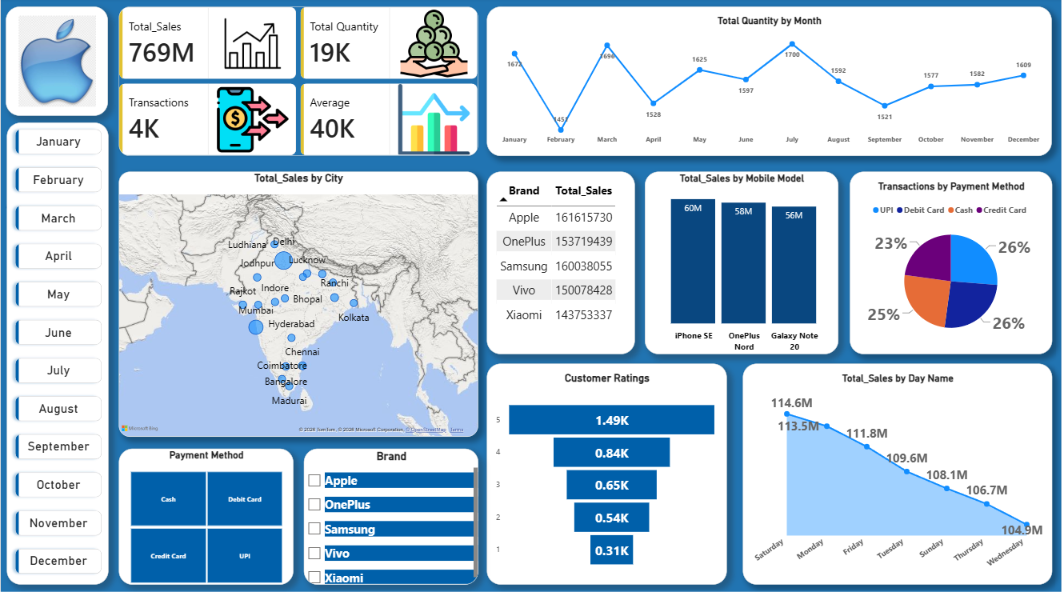

What the dashboard file says about the page in this screenshot:
{"tool":"powerbi","page":{"name":"Page 1","canvas":[1920,1080],"ordinal":0},"visuals":[{"type":"shape","box":[9,16.3,184.6,197.3],"z":0},{"type":"image","box":[9,224.4,161.1,181],"z":1000},{"type":"shape","box":[10,226,184,836],"z":2000},{"type":"advancedSlicerVisual","fields":{"Values":["Sheet1.Date.Variation.Date Hierarchy.Month"]},"box":[14,226,180,836],"z":3000},{"type":"cardVisual","fields":{"Data":["Sales_Data.Total_Sales","Sales_Data.Total Quantity","Sales_Data.Transactions","Sales_Data.Average"]},"box":[214,16,650,270],"z":4000},{"type":"map","fields":{"Category":["Sales_Data.City"],"Size":["Sales_Data.Total_Sales"]},"box":[214,314,650,480],"z":5000},{"type":"lineChart","fields":{"Category":["Sales_Data.Date.Variation.Date Hierarchy.Month","Sales_Data.Date.Variation.Date Hierarchy.Day"],"Y":["Sales_Data.Total Quantity"]},"box":[880,16,1022,270],"z":6000},{"type":"pieChart","fields":{"Category":["Sales_Data.Payment Method"],"Y":["Sales_Data.Transactions"]},"box":[1536,314,366,330],"z":7000},{"type":"clusteredColumnChart","fields":{"Category":["Sales_Data.Mobile Model"],"Y":["Sales_Data.Total_Sales"]},"box":[1166,314,350,330],"z":8000},{"type":"slicer","title":"Payment Method","fields":{"Values":["Sales_Data.Payment Method"]},"box":[214,816,316,246],"z":9000},{"type":"areaChart","fields":{"Category":["Sales_Data.Day Name"],"Y":["Sales_Data.Total_Sales"]},"box":[1342,662,560,400],"z":10000},{"type":"tableEx","fields":{"Values":["Sales_Data.Brand","Sales_Data.Total_Sales"]},"box":[880,314,268,330],"z":11000},{"type":"funnel","title":"Customer Ratings","fields":{"Category":["Sales_Data.Customer Ratings"],"Y":["CountNonNull(Sales_Data.Customer Ratings)"]},"box":[880,662,434,400],"z":12000},{"type":"slicer","title":"Brand","fields":{"Values":["Sales_Data.Brand"]},"box":[548,816,316,246],"z":13000},{"type":"image","box":[9,32.6,186.4,164.7],"z":13001}]}

Visuals, with their boxes in screenshot pixels (x1, y1, x2, y2), scaled from the page's 1920x1080 canvas onto the 1062x592 screenshot:
shape: bbox=(5, 9, 107, 117)
image: bbox=(5, 123, 94, 222)
shape: bbox=(6, 124, 107, 582)
advancedSlicerVisual - Sheet1.Date.Variation.Date Hierarchy.Month: bbox=(8, 124, 107, 582)
cardVisual - Sales_Data.Total_Sales x Sales_Data.Total Quantity: bbox=(118, 9, 478, 157)
map - Sales_Data.City x Sales_Data.Total_Sales: bbox=(118, 172, 478, 435)
lineChart - Sales_Data.Date.Variation.Date Hierarchy.Month x Sales_Data.Date.Variation.Date Hierarchy.Day: bbox=(487, 9, 1052, 157)
pieChart - Sales_Data.Payment Method x Sales_Data.Transactions: bbox=(850, 172, 1052, 353)
clusteredColumnChart - Sales_Data.Mobile Model x Sales_Data.Total_Sales: bbox=(645, 172, 839, 353)
"Payment Method" slicer: bbox=(118, 447, 293, 582)
areaChart - Sales_Data.Day Name x Sales_Data.Total_Sales: bbox=(742, 363, 1052, 582)
tableEx - Sales_Data.Brand x Sales_Data.Total_Sales: bbox=(487, 172, 635, 353)
"Customer Ratings" funnel: bbox=(487, 363, 727, 582)
"Brand" slicer: bbox=(303, 447, 478, 582)
image: bbox=(5, 18, 108, 108)
